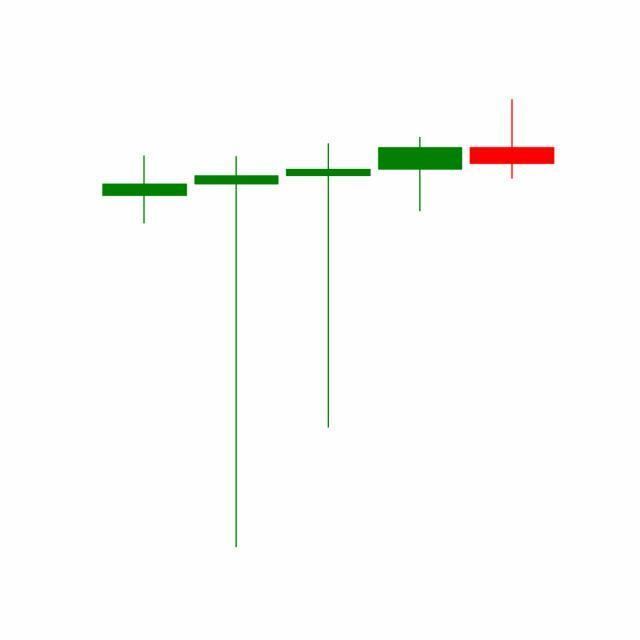Dragonfly Doji: (374, 135, 468, 213)
